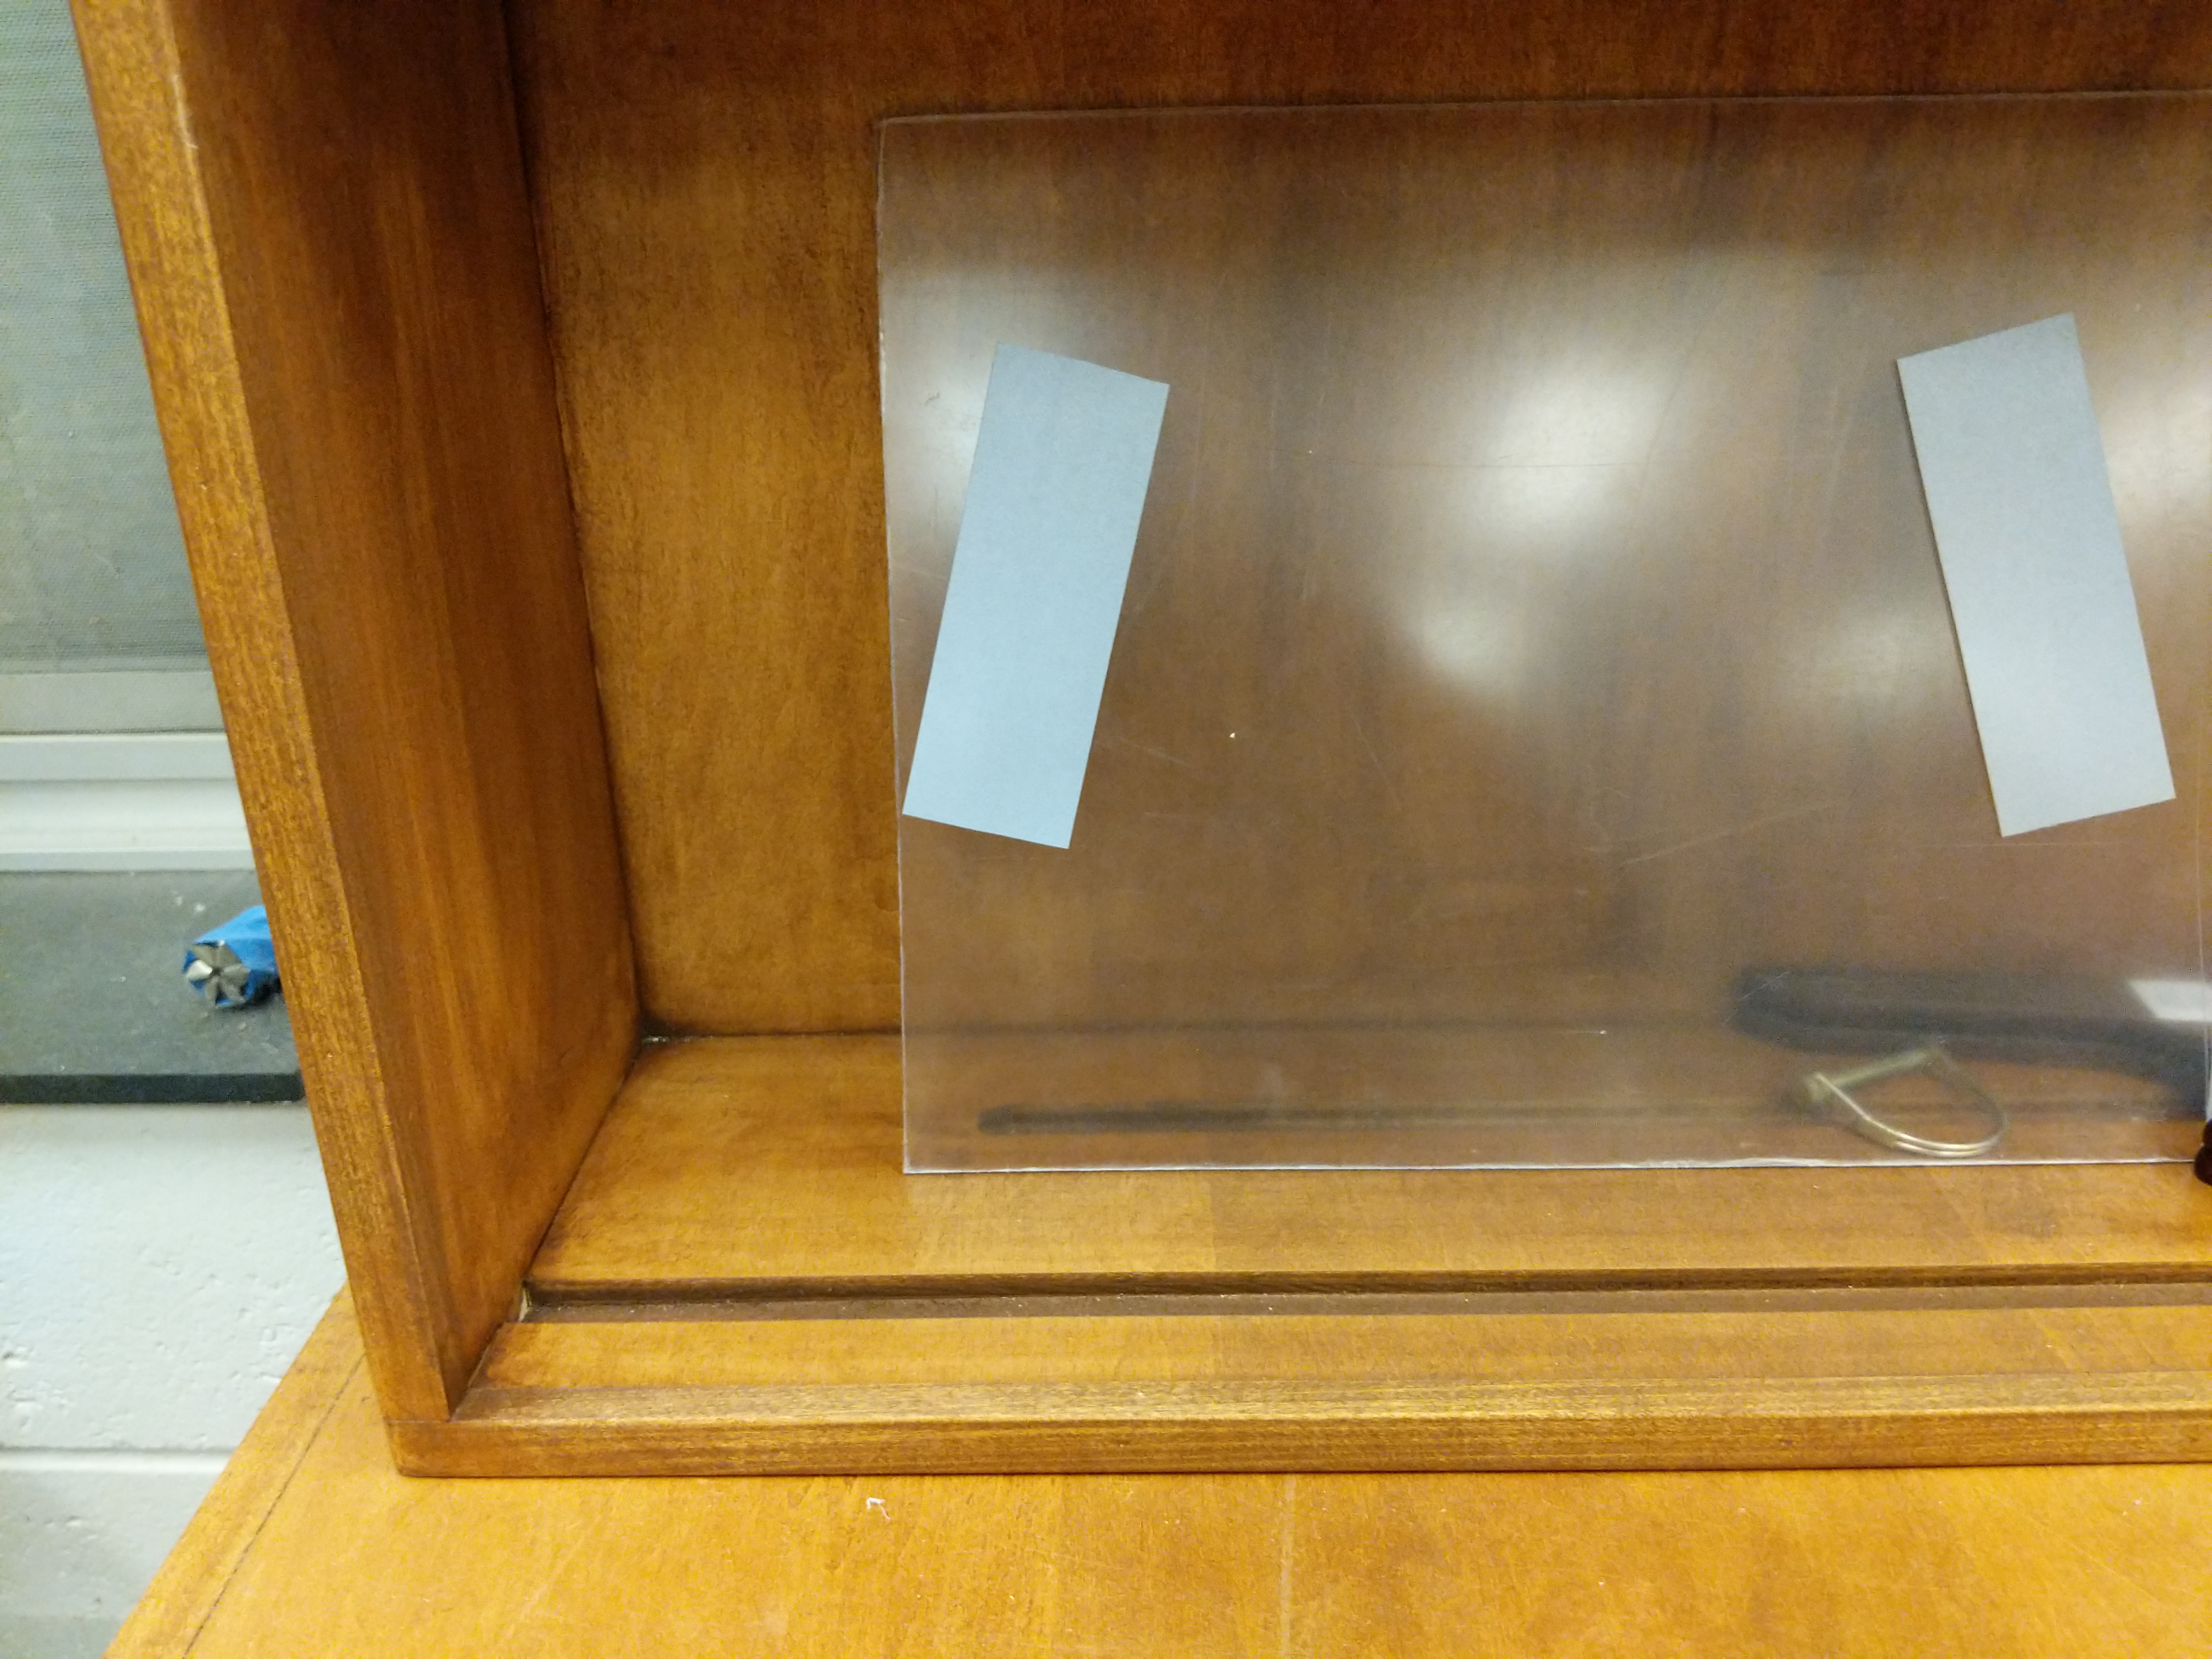vision_target: (892, 308, 2184, 859)
